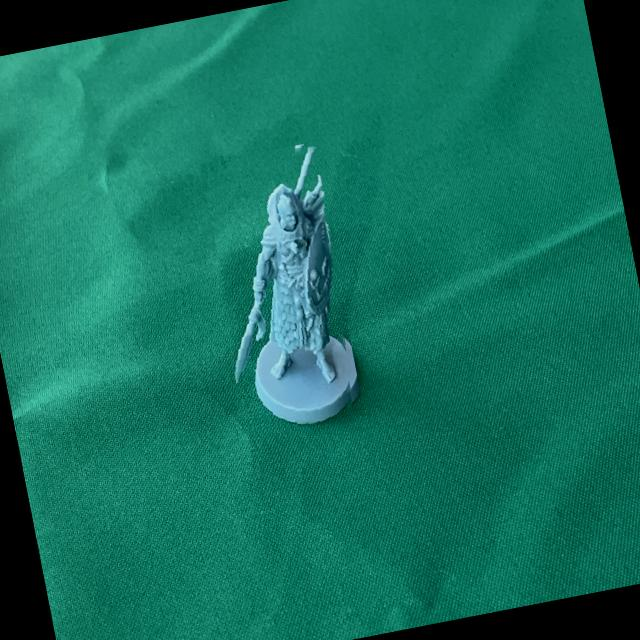isis_follower: (195, 139, 371, 440)
